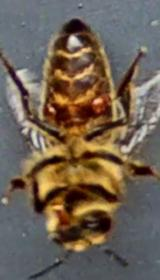varroa_mite: (80, 84, 120, 116), (36, 96, 68, 126)
